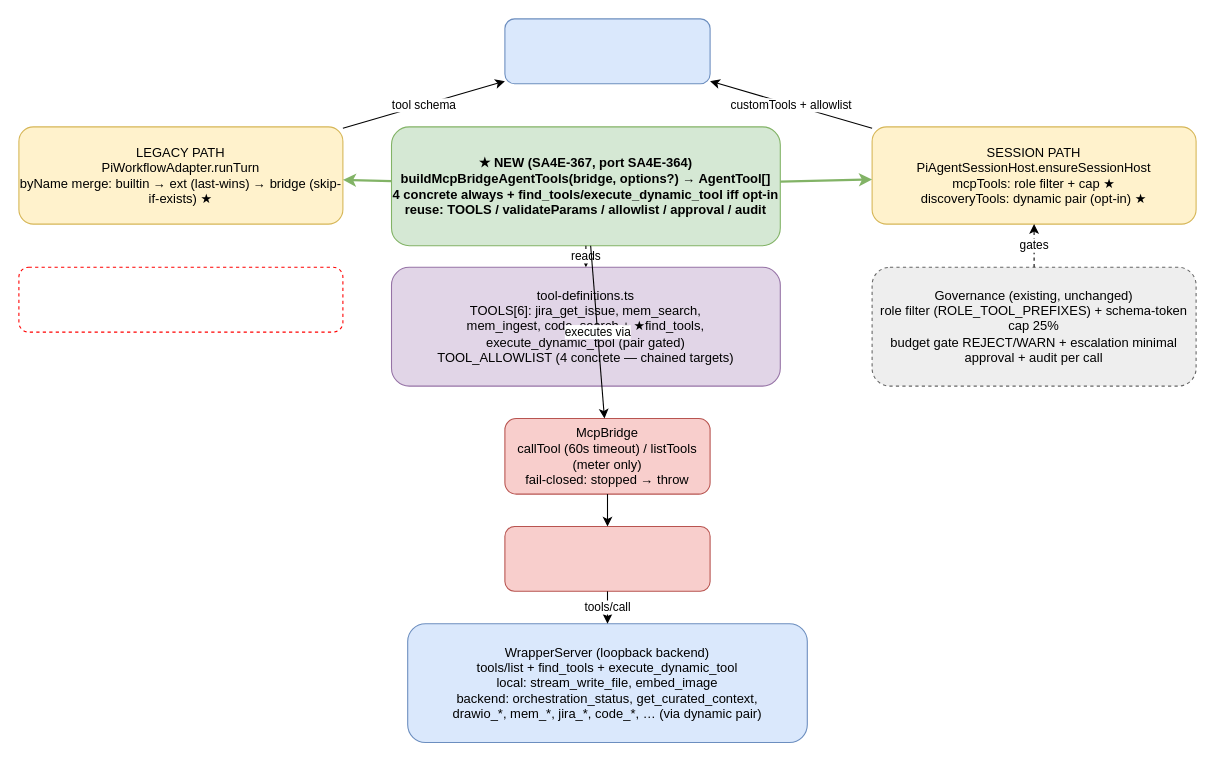
The diagram is 1215 pixels wide and 761 high, and some of its shapes have lost their labels. Here are the shapes that lost their labels. From the top down, the box of each, then its label:
(504, 18, 710, 84): Chat Agent (LLM) tool_call → result text
(18, 266, 343, 332): mcpBridgeExtension entry point KEPT AS-IS (dead code — not wired)
(504, 525, 710, 591): McpServerManager (IServerManager — no URL fallback, SEC-332-09)
